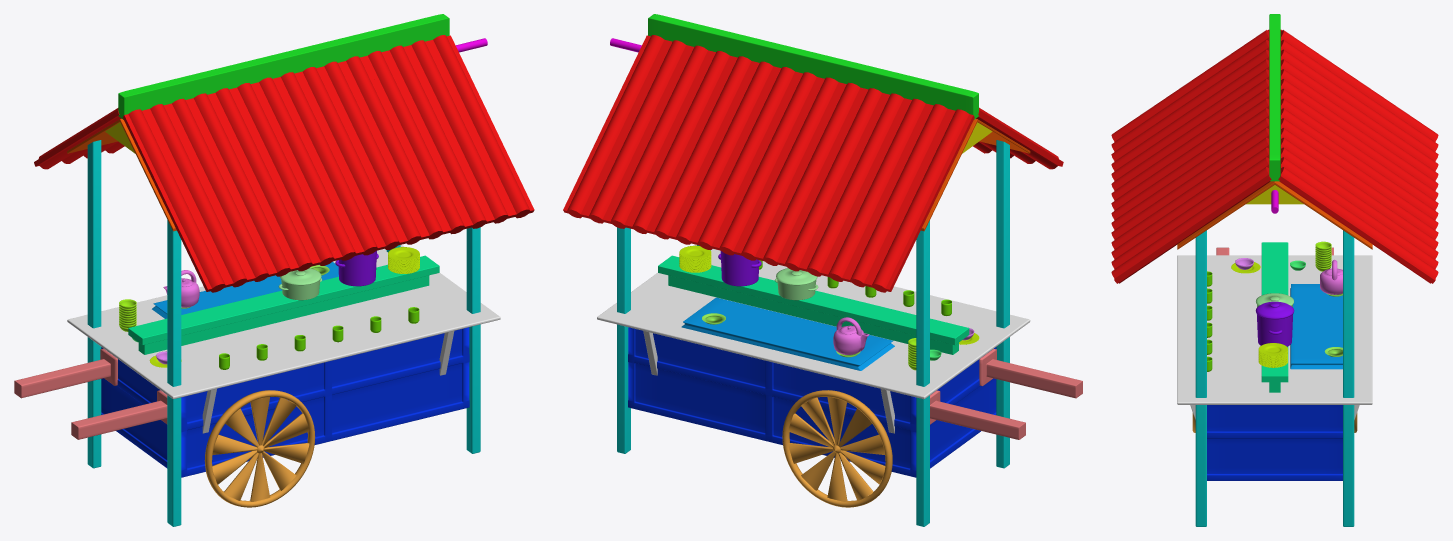
The model's file is TeaCart_Final_4.fbx.
The picture shows the model from 3 angles, left to right: view 1: azimuth 30°, elevation 25°; view 2: azimuth 150°, elevation 25°; view 3: azimuth 270°, elevation 25°; orthographic projection. The views are drawn at different scales.
Visible parts, largest first — view 1: Roof.002, Cart Base, Table, Support Beams, Top Beam, Divider, Rims, Stick, Wheel, Stove Base, Pot, Tea Cup (+5 smaller); view 2: Roof.002, Cart Base, Table, Support Beams, Top Beam, Divider, Stove Base, Rims, Stick, Wheel, Pot, Pot.001 (+5 smaller); view 3: Roof.002, Table, Cart Base, Support Beams, Stove Base, Divider, Top Beam, Pot, Mini Roof, Plate, TeaPot, Hook Beam (+2 smaller).
Part boxes in pixels (x1,y1,x2,y2): Roof.002: (34, 35, 534, 292); Cart Base: (101, 327, 469, 477); Table: (67, 244, 500, 399); Support Beams: (87, 140, 480, 526); Top Beam: (118, 14, 449, 119); Divider: (128, 255, 439, 354); Rims: (212, 397, 309, 501); Stick: (14, 348, 167, 439); Wheel: (204, 390, 315, 507); Stove Base: (152, 262, 338, 318); Pot: (335, 250, 378, 286); Tea Cup: (219, 307, 419, 369); Roof.002: (563, 35, 1063, 292); Cart Base: (628, 327, 996, 477); Table: (597, 244, 1030, 399); Support Beams: (617, 140, 1009, 526); Top Beam: (648, 14, 978, 119); Divider: (658, 255, 969, 354); Stove Base: (681, 297, 894, 370); Rims: (788, 397, 885, 501); Stick: (930, 349, 1082, 439); Wheel: (782, 390, 892, 507); Pot: (718, 251, 761, 286); Pot.001: (774, 268, 818, 300); Roof.002: (1111, 29, 1438, 283); Table: (1177, 255, 1372, 404); Cart Base: (1207, 405, 1342, 480); Support Beams: (1195, 230, 1354, 526); Stove Base: (1290, 284, 1342, 369); Divider: (1261, 242, 1288, 392); Top Beam: (1269, 14, 1280, 181); Pot: (1255, 301, 1294, 346); Mini Roof: (1177, 181, 1372, 249); Plate: (1231, 262, 1287, 367); TeaPot: (1320, 259, 1342, 294); Hook Beam: (1246, 185, 1303, 204).
Size of the model in its own units: 849 by 745 by 594.
